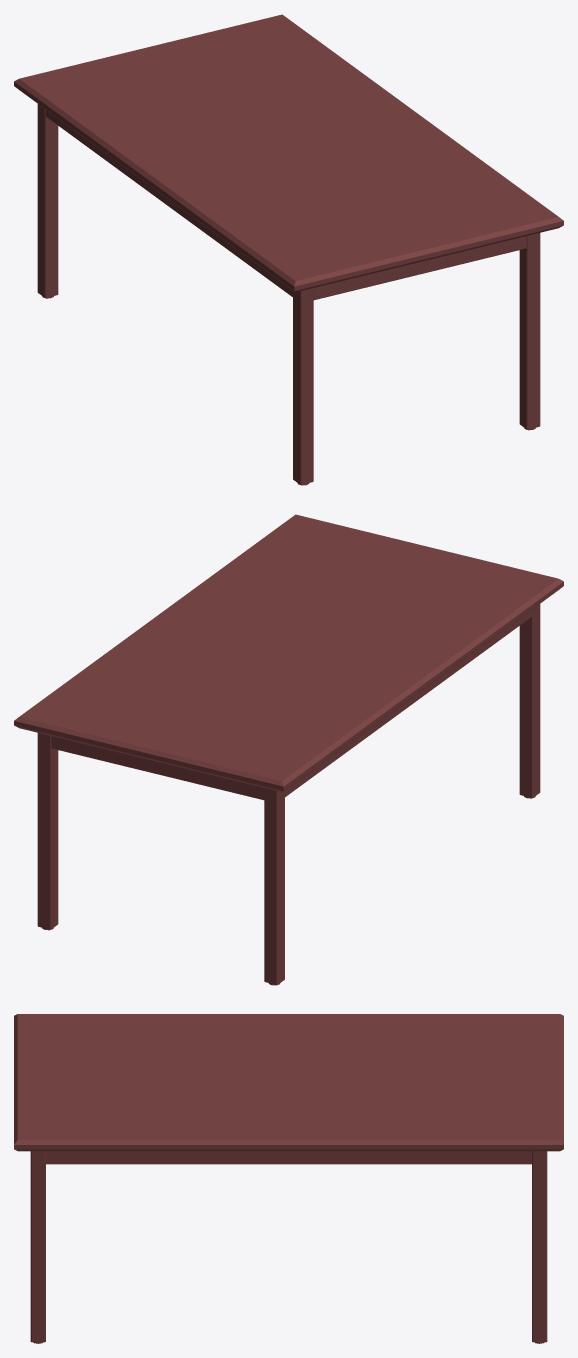
Rendered from libraryTable.fbx.
3 renders of one model, top to bottom at view 1: azimuth 30°, elevation 25°; view 2: azimuth 150°, elevation 25°; view 3: azimuth 270°, elevation 25°, orthographic.
Parts seen in each view (by area): view 1: Library_Table; view 2: Library_Table; view 3: Library_Table.
Part boxes in pixels (box(x1,y1,x2,y2)): Library_Table: box(14, 14, 563, 485); Library_Table: box(14, 514, 563, 985); Library_Table: box(14, 1014, 563, 1343).
Bounding box in the file's own units: 100 × 75.85 × 180.
